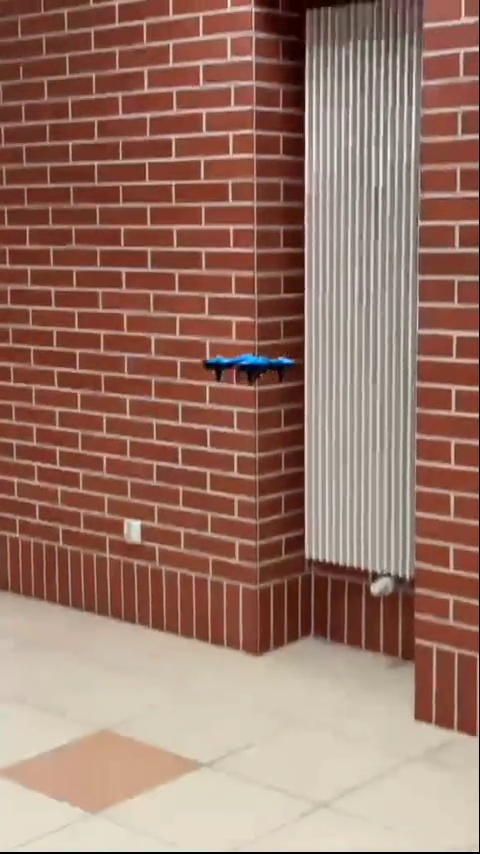drone: (202, 352, 305, 386)
